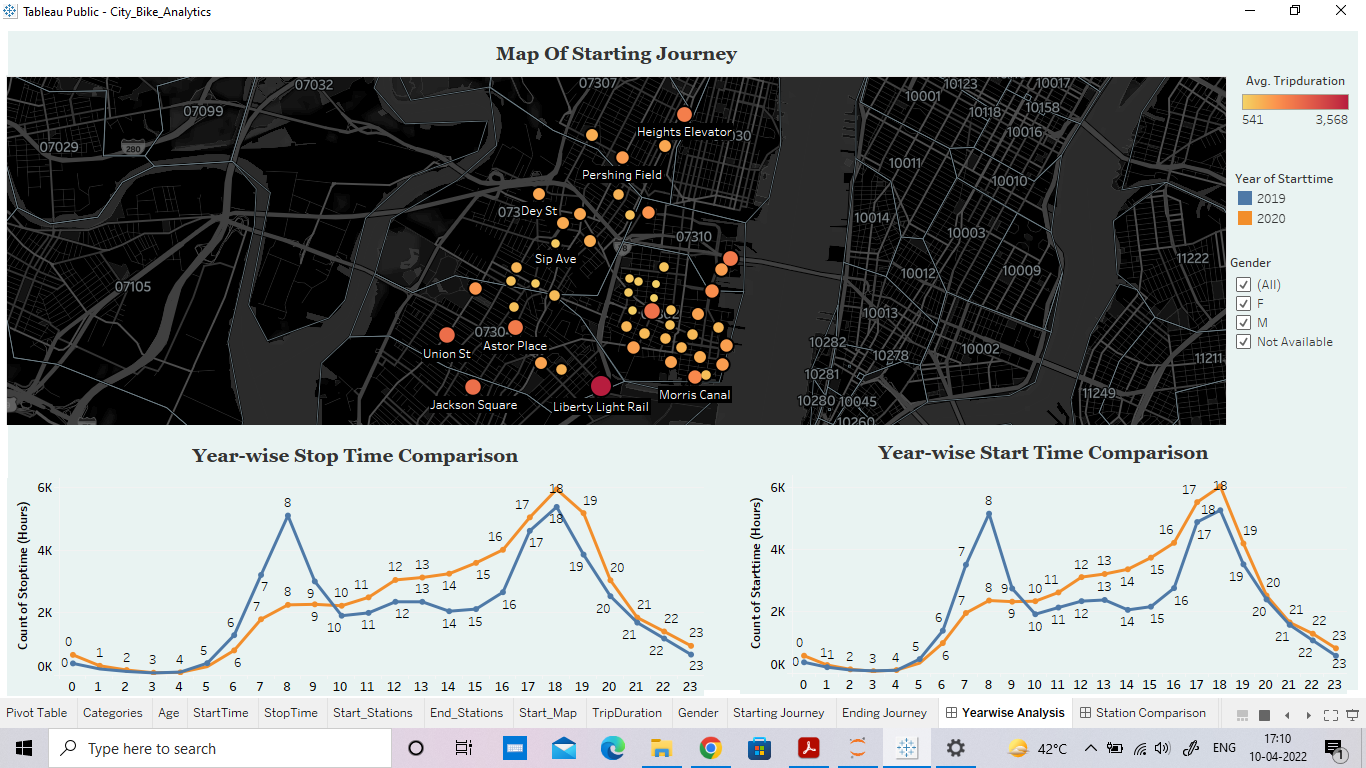

This screenshot's page, from the dashboard's own definition file:
{"tool":"tableau","page":{"name":"Yearwise Analysis","canvas":[1000,1000],"units":"permille","ordinal":3},"visuals":[{"type":"worksheet","box":[0,0,1000,1000]},{"type":"worksheet","param":"vert","box":[7,13.5,986.1,973]},{"type":"worksheet","box":[7,13.5,986.1,973]},{"type":"worksheet","title":"Start_Map","mark":"Automatic","rows":["start.station.latitude"],"cols":["start.station.longitude"],"box":[4.2,23.2,893.8,572.6]},{"type":"worksheet","title":"Start_Map","mark":"Automatic","rows":["start.station.latitude"],"cols":["start.station.longitude"],"param":"[federated.0axtsh30ud2oz713ihg7k1uitwuh].[avg:tripduration:qk]","box":[906.5,73.2,84.5,102.2]},{"type":"worksheet","title":"StopTime","mark":"Automatic","rows":["Stoptime (Hours)"],"cols":["Stoptime (Hours)"],"param":"[federated.0axtsh30ud2oz713ihg7k1uitwuh].[yr:starttime:ok]","box":[904.3,217.9,85.3,116.5]},{"type":"worksheet","title":"Start_Map","mark":"Automatic","rows":["start.station.latitude"],"cols":["start.station.longitude"],"param":"[federated.0axtsh30ud2oz713ihg7k1uitwuh].[none:gender:nk]","box":[900.8,342.9,101,174]},{"type":"worksheet","title":"StartTime","mark":"Automatic","rows":["Starttime (Hours)"],"cols":["Starttime (Hours)"],"box":[541.4,615.5,444.5,379.4]},{"type":"worksheet","title":"StopTime","mark":"Automatic","rows":["Stoptime (Hours)"],"cols":["Stoptime (Hours)"],"box":[5.3,618.9,510.6,377.7]}]}

Visuals, with their boxes on the dashboard's canvas, which has no fixed pixel size, in thousandths of its width and height (x1, y1, x2, y2). These are canvas units, not pixel positions in the 1366x768 screenshot, which may show the page scaled, cropped or inside an application window:
worksheet: 0, 0, 1000, 1000
worksheet: 7, 14, 993, 986
worksheet: 7, 14, 993, 986
"Start_Map" worksheet: 4, 23, 898, 596
"Start_Map" worksheet: 906, 73, 991, 175
"StopTime" worksheet: 904, 218, 990, 334
"Start_Map" worksheet: 901, 343, 1002, 517
"StartTime" worksheet: 541, 616, 986, 995
"StopTime" worksheet: 5, 619, 516, 997
